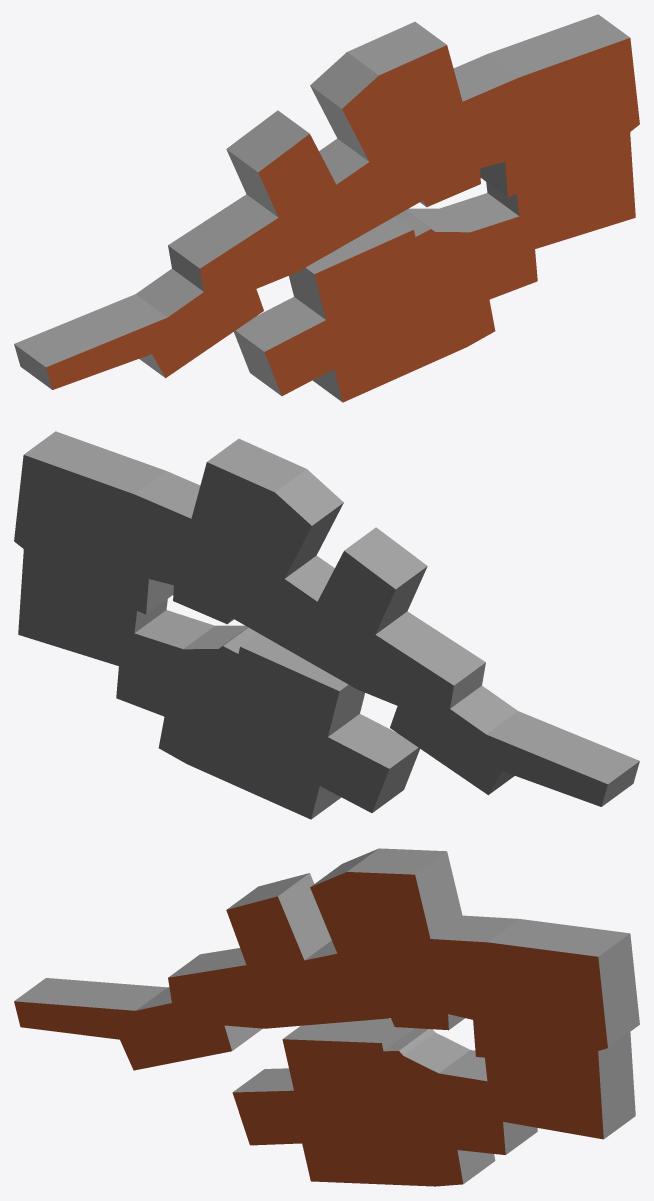
Rendered from construction_0587_assumed_A_Casa_h6m.obj.
3 renders of one model, top to bottom at view 1: azimuth 30°, elevation 25°; view 2: azimuth 150°, elevation 25°; view 3: azimuth 330°, elevation 25°, orthographic.
Parts seen in each view (by area): view 1: construction_0587_assumed_A_Casa; view 2: construction_0587_assumed_A_Casa; view 3: construction_0587_assumed_A_Casa.
Boxes of the visible parts, bbox=[...] form: construction_0587_assumed_A_Casa: bbox=[14, 14, 639, 402]; construction_0587_assumed_A_Casa: bbox=[14, 431, 639, 819]; construction_0587_assumed_A_Casa: bbox=[14, 848, 639, 1186].
Bounding box in the file's own units: 64.24 × 34.34 × 6.
